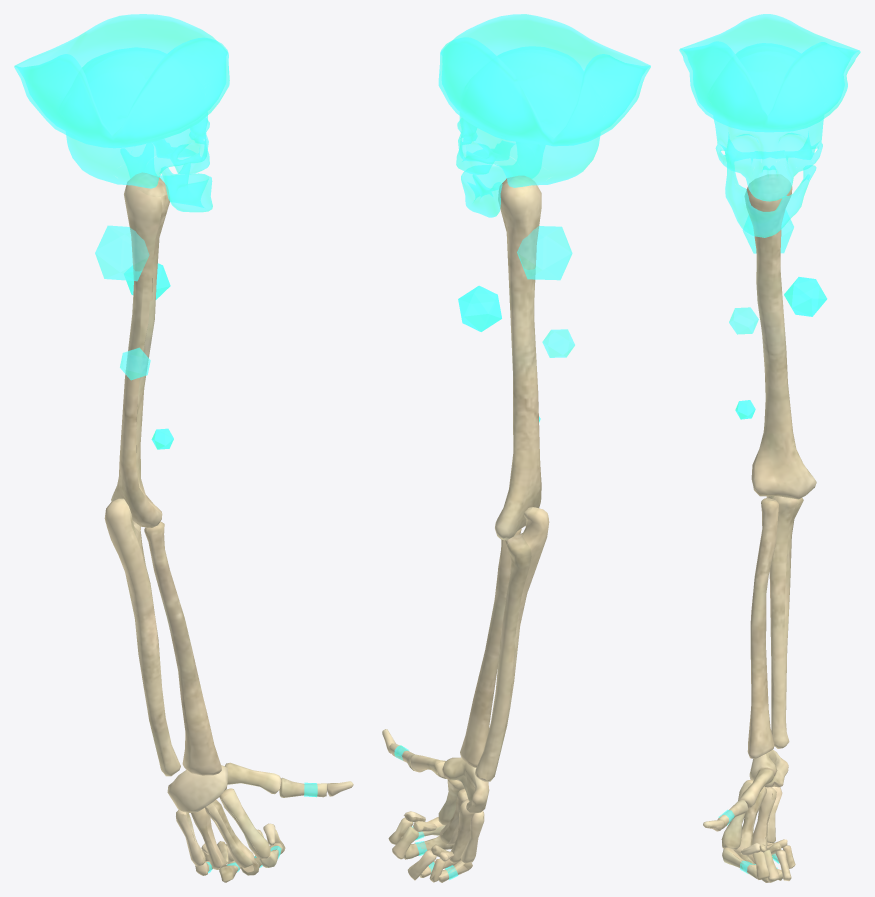
File: Skull_Spirit_Club.glb
3 views of the same model, side by side, from view 1: azimuth 30°, elevation 25°; view 2: azimuth 150°, elevation 25°; view 3: azimuth 270°, elevation 25° (orthographic). The views are drawn at different scales.
Parts seen in each view (by area): view 1: Skull Spirit Club; view 2: Skull Spirit Club; view 3: Skull Spirit Club.
Boxes of the visible parts, box(x1,y1,x2,y2) form: Skull Spirit Club: box(14, 14, 353, 882); Skull Spirit Club: box(382, 14, 650, 882); Skull Spirit Club: box(679, 14, 860, 882).
Size of the model in its own units: 0.3847 by 1.18 by 0.2432.
Materials: 2 (1 with a texture image).
